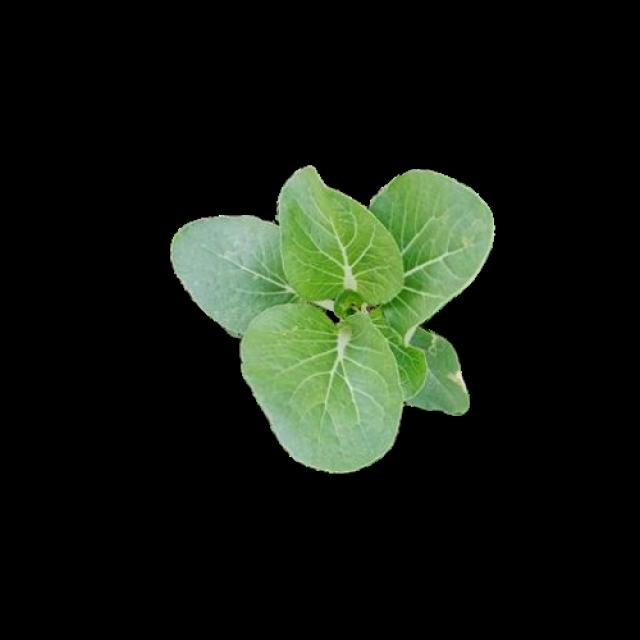not-mature: (171, 160, 498, 471)
unhealthy: (414, 327, 470, 418)
